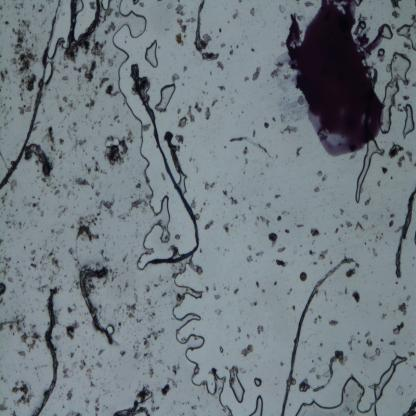Air bubble: (162, 264, 233, 416), (107, 0, 147, 166), (130, 164, 172, 257), (295, 375, 378, 415), (379, 52, 411, 133), (354, 138, 386, 204), (374, 354, 408, 402), (396, 15, 416, 50), (228, 365, 246, 403), (154, 84, 177, 112), (144, 39, 159, 68), (401, 103, 413, 137), (378, 22, 394, 41), (250, 394, 263, 415), (44, 62, 54, 84), (178, 172, 186, 193), (105, 137, 120, 147), (253, 376, 263, 388), (101, 0, 111, 12), (106, 324, 115, 334), (355, 0, 363, 8), (132, 0, 142, 6), (219, 346, 224, 353)
Background material: (11, 15, 38, 92), (0, 313, 40, 351), (10, 375, 36, 408), (73, 212, 100, 243), (102, 139, 130, 166), (40, 249, 61, 278), (72, 61, 99, 83), (68, 119, 86, 152), (140, 329, 165, 350), (137, 389, 157, 414), (97, 192, 115, 218), (5, 209, 26, 231), (41, 175, 63, 196), (124, 300, 143, 324), (84, 156, 106, 176), (22, 200, 46, 218), (173, 18, 188, 46), (0, 94, 13, 125), (90, 39, 106, 64), (57, 94, 77, 113), (0, 255, 14, 282), (44, 126, 57, 155), (72, 174, 95, 190), (268, 60, 284, 81), (98, 374, 112, 398), (60, 182, 78, 200), (65, 320, 80, 340), (401, 396, 416, 416), (388, 142, 404, 160), (70, 247, 82, 271), (132, 349, 152, 362), (281, 124, 301, 136), (363, 348, 381, 361), (130, 198, 148, 211), (172, 3, 186, 18), (110, 111, 121, 130), (89, 182, 102, 198), (28, 249, 37, 272), (108, 263, 120, 280), (186, 104, 196, 124), (354, 220, 367, 235), (299, 378, 311, 394), (87, 365, 95, 389), (254, 214, 270, 226), (50, 225, 61, 242), (102, 21, 116, 34), (98, 249, 111, 263), (241, 342, 254, 356), (159, 382, 170, 398), (0, 192, 9, 211), (0, 67, 10, 84), (268, 231, 278, 248), (393, 321, 405, 335), (98, 76, 110, 90), (106, 84, 118, 98), (204, 179, 218, 191), (168, 242, 179, 257), (223, 183, 234, 198), (17, 104, 32, 115), (364, 330, 373, 348), (251, 66, 261, 82), (69, 277, 79, 293), (166, 374, 178, 387), (317, 170, 329, 183), (167, 364, 181, 375), (126, 127, 135, 144), (351, 289, 361, 304), (370, 232, 385, 242), (116, 210, 128, 222), (348, 334, 356, 352), (398, 300, 407, 316), (69, 350, 77, 368), (57, 204, 69, 216), (66, 386, 75, 402), (344, 266, 357, 277), (318, 249, 329, 262), (132, 284, 139, 304), (15, 266, 23, 283), (94, 396, 101, 415), (67, 302, 78, 314), (55, 330, 66, 342), (84, 98, 95, 110), (204, 219, 215, 231), (309, 227, 321, 238), (108, 55, 118, 68), (275, 258, 288, 268), (378, 47, 386, 63), (121, 278, 130, 292), (115, 280, 122, 298), (217, 83, 228, 94), (178, 117, 188, 129), (93, 117, 103, 129), (0, 396, 8, 411), (390, 0, 402, 10), (0, 281, 7, 298), (175, 291, 184, 304), (204, 106, 212, 120), (100, 231, 108, 245), (174, 133, 184, 144), (16, 349, 26, 360), (98, 401, 108, 412), (308, 364, 317, 376), (10, 179, 19, 191), (278, 2, 287, 14), (171, 72, 180, 84), (64, 410, 82, 416), (216, 60, 225, 72), (62, 366, 71, 378), (229, 196, 239, 206), (143, 122, 152, 133), (211, 97, 220, 108), (398, 154, 405, 168), (195, 99, 202, 113), (295, 145, 303, 157), (134, 178, 142, 190), (223, 222, 230, 235), (147, 366, 154, 379), (0, 294, 6, 309), (122, 250, 128, 265), (329, 318, 339, 327), (61, 59, 71, 68), (314, 314, 323, 324), (338, 206, 346, 217), (117, 347, 125, 358), (232, 8, 239, 20), (190, 198, 197, 210), (20, 281, 27, 293), (34, 362, 40, 376), (308, 249, 317, 258), (306, 1, 315, 10), (246, 254, 254, 264), (277, 245, 287, 253), (242, 144, 249, 155), (257, 325, 264, 336), (9, 407, 17, 416), (62, 73, 70, 82), (392, 10, 400, 19), (191, 404, 200, 412), (97, 347, 105, 356), (408, 149, 413, 163), (58, 136, 65, 146), (296, 222, 306, 229), (79, 360, 86, 370), (145, 280, 150, 294), (240, 212, 246, 223), (408, 348, 414, 359), (172, 233, 180, 241), (214, 308, 222, 316), (278, 359, 286, 367), (256, 250, 264, 258), (380, 166, 388, 174), (154, 358, 162, 366), (361, 212, 369, 220), (313, 184, 321, 192), (250, 300, 258, 308), (145, 296, 152, 305), (245, 202, 252, 211), (280, 209, 289, 216), (381, 311, 388, 320), (334, 224, 339, 236), (264, 120, 270, 130), (90, 0, 96, 10), (212, 294, 222, 300), (81, 350, 88, 358), (388, 220, 395, 228), (388, 340, 396, 347), (338, 222, 346, 229), (85, 396, 90, 407), (250, 7, 255, 18), (346, 219, 352, 228), (372, 247, 378, 256), (273, 193, 282, 199), (186, 17, 196, 22), (403, 94, 410, 101), (234, 287, 240, 295), (284, 227, 290, 235), (96, 360, 102, 368), (286, 288, 292, 296), (254, 281, 260, 289), (247, 243, 252, 252), (180, 402, 191, 406), (0, 234, 4, 245), (220, 41, 226, 48), (353, 262, 360, 268), (276, 215, 282, 222), (265, 202, 272, 208), (166, 3, 172, 10), (272, 280, 277, 288), (60, 402, 65, 410), (405, 294, 410, 302), (162, 290, 167, 298), (229, 48, 234, 56), (291, 304, 296, 312), (390, 212, 395, 219), (377, 300, 382, 307), (70, 224, 75, 231), (233, 213, 238, 220), (2, 375, 7, 382), (118, 321, 121, 332), (196, 394, 200, 402), (244, 76, 249, 82), (111, 239, 116, 245), (411, 82, 416, 88), (96, 129, 102, 134), (272, 116, 276, 123), (22, 245, 27, 250), (16, 258, 20, 264), (238, 326, 241, 334), (246, 332, 250, 338), (206, 285, 209, 292), (81, 321, 85, 326), (380, 337, 384, 342), (76, 344, 80, 349), (84, 114, 87, 119), (264, 290, 267, 295), (394, 282, 398, 285), (86, 342, 88, 346)
Cellulose filter fibre: (0, 0, 65, 190), (279, 257, 355, 415), (35, 287, 59, 415), (78, 267, 114, 341), (394, 187, 416, 279), (67, 0, 101, 55), (193, 1, 220, 61), (312, 353, 344, 393), (25, 142, 53, 176), (164, 129, 184, 173), (228, 134, 269, 154), (114, 398, 150, 415)
Cotton: (138, 92, 200, 265)
Diatom: (300, 272, 307, 282)
Pen: (286, 1, 384, 157)
